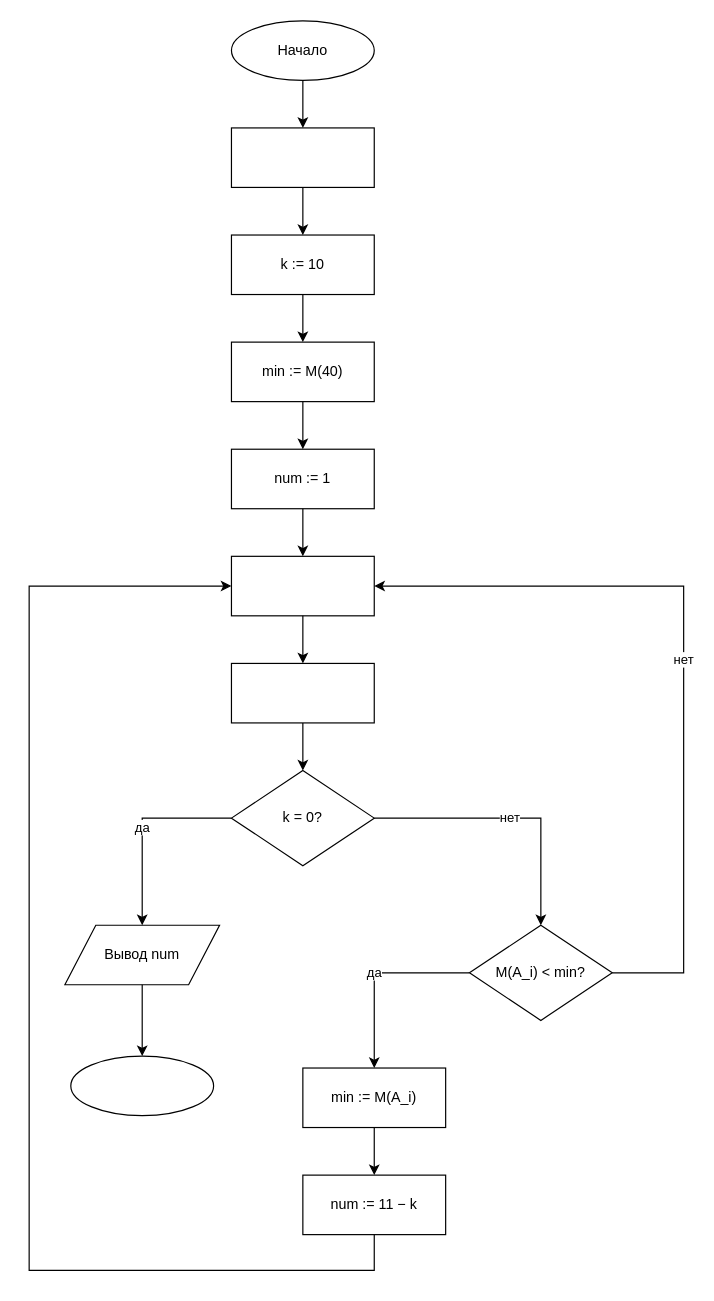
The diagram is 714 pixels wide and 1301 high, and some of its shapes have lost their labels. The shapes that lost their labels are listed below. From the top down, each one's centre as x and y in pixels, then its label:
point 302,157: A_i := 40
point 302,585: A_i := A_i + 1
point 302,692: k := k − 1
point 142,1085: Конец
